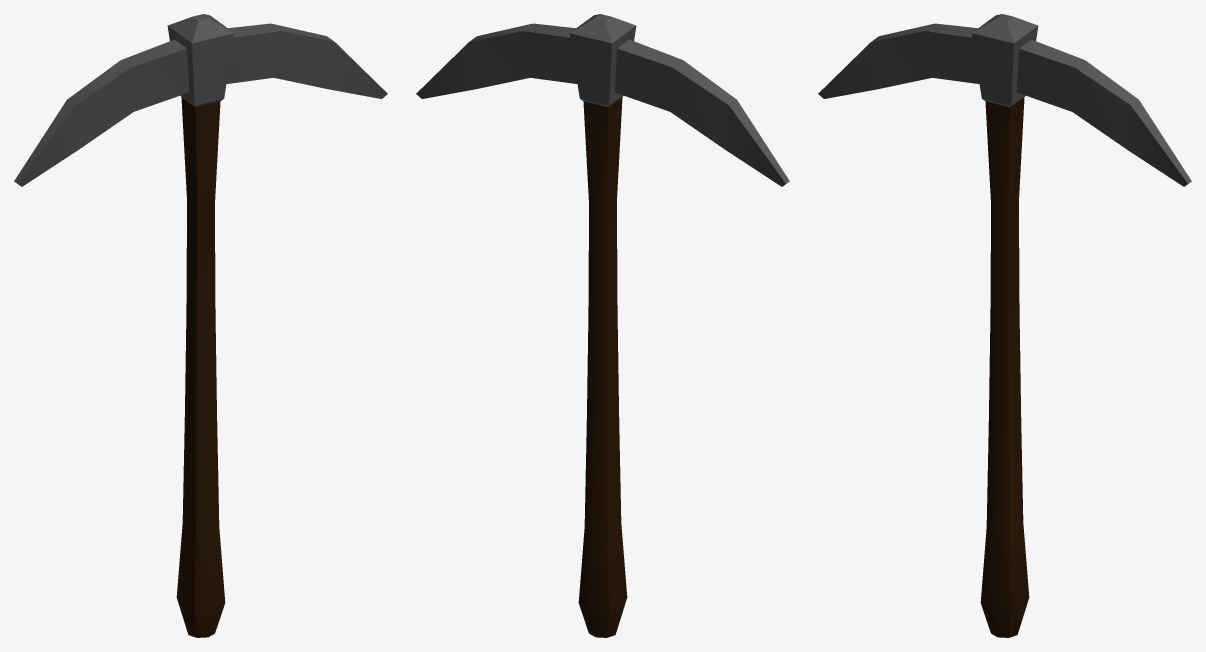
File: Pickaxe.fbx
The picture shows the model from 3 angles, left to right: view 1: azimuth 30°, elevation 25°; view 2: azimuth 150°, elevation 25°; view 3: azimuth 330°, elevation 25°; orthographic projection.
Parts seen in each view (by area): view 1: PickAxe; view 2: PickAxe; view 3: PickAxe.
Boxes of the visible parts, box(x1,y1,x2,y2) form: PickAxe: box(14, 14, 387, 637); PickAxe: box(416, 14, 789, 637); PickAxe: box(818, 14, 1191, 637).
Bounding box in the file's own units: 39.52 × 62.68 × 4.65.
